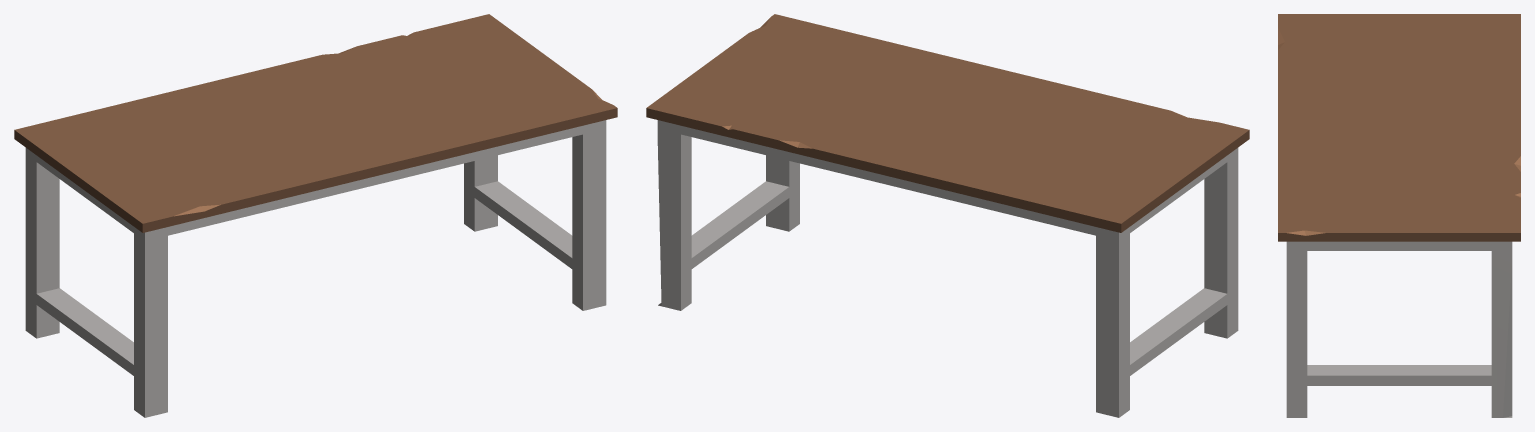
File: SM_Prop_Table_03.glb
The picture shows the model from 3 angles, left to right: view 1: azimuth 30°, elevation 25°; view 2: azimuth 150°, elevation 25°; view 3: azimuth 270°, elevation 25°; orthographic projection. The views are drawn at different scales.
Parts seen in each view (by area): view 1: SM_Prop_Table_03; view 2: SM_Prop_Table_03; view 3: SM_Prop_Table_03.
Part boxes in pixels (x1=…): SM_Prop_Table_03: x1=14, y1=14, x2=617, y2=417; SM_Prop_Table_03: x1=646, y1=14, x2=1249, y2=417; SM_Prop_Table_03: x1=1278, y1=14, x2=1520, y2=417.
Bounding box in the file's own units: 1.87 × 0.75 × 0.8769.
1 material, 1 textured.
